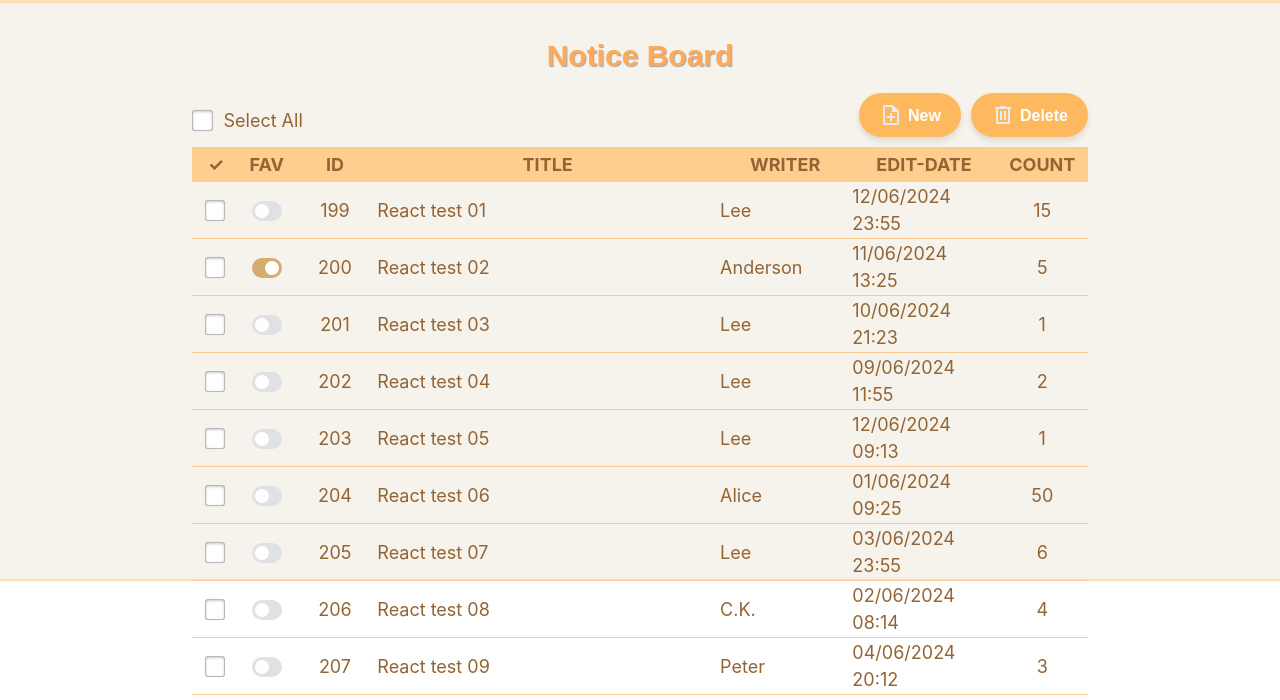
BoardListPage component › handles select all checkbox
Click the checkbox with test id "all" at (247, 120), box [192,110,303,130]
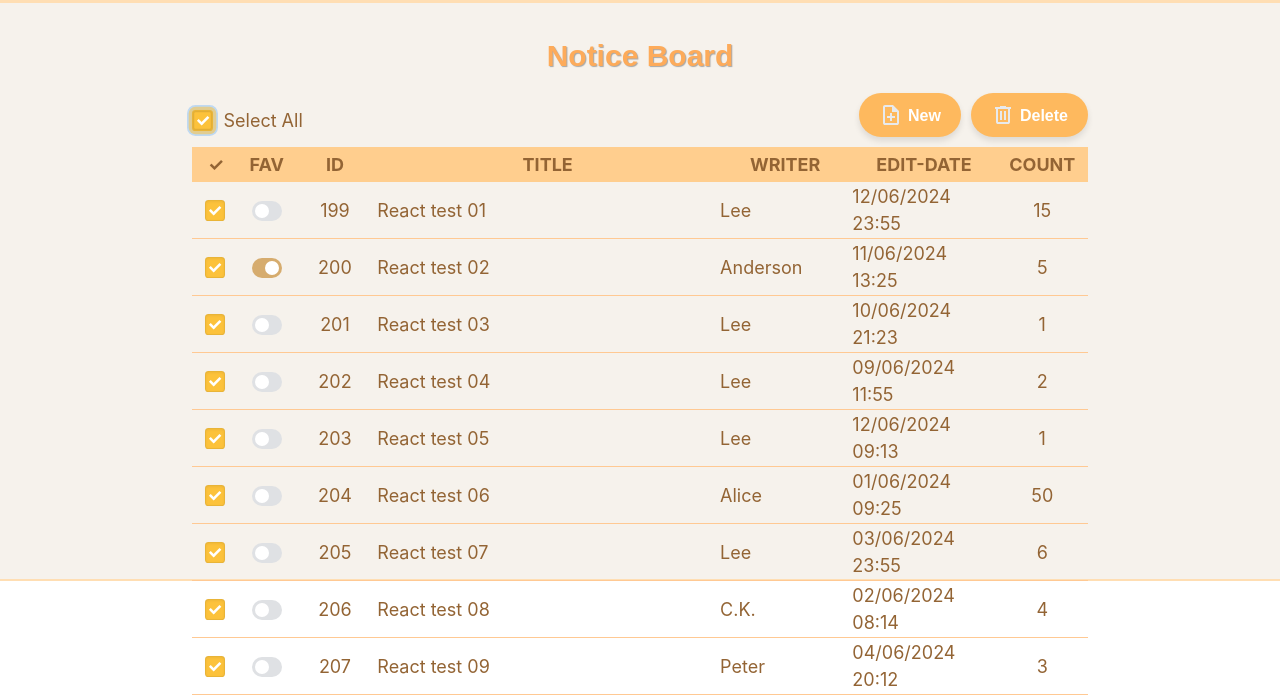
Expected: the checkbox with test id "check" is checked, [205,200,236,220]
